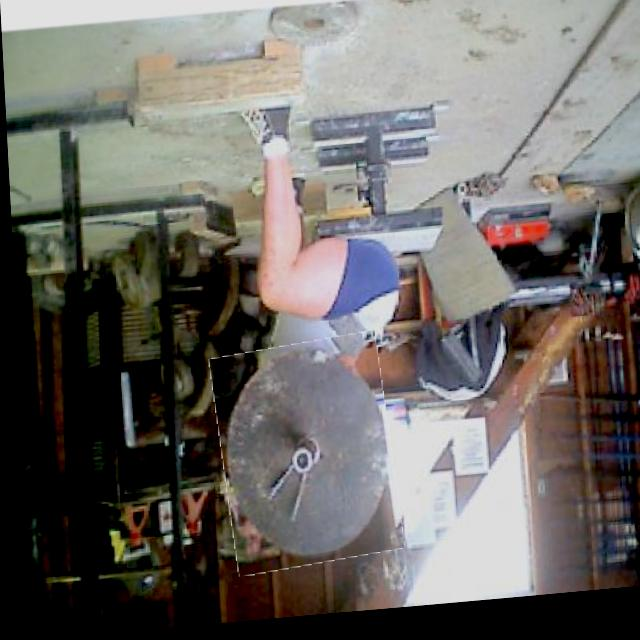barbell: (209, 340, 395, 579)
